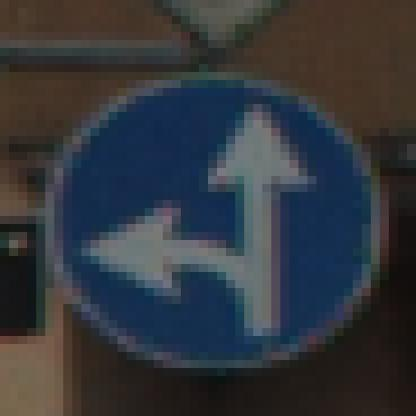Straight or Left: (46, 49, 372, 369)
